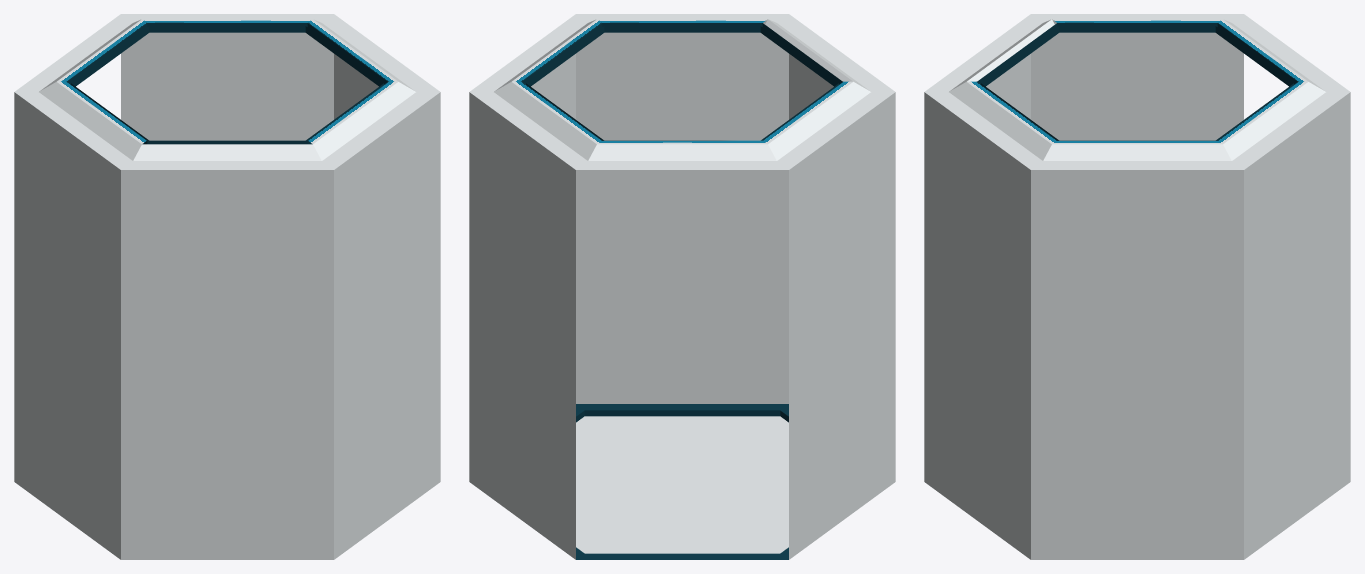
Rendered from Hexagon_Environment.fbx.
3 views of the same model, side by side, from view 1: azimuth 30°, elevation 25°; view 2: azimuth 150°, elevation 25°; view 3: azimuth 270°, elevation 25° (orthographic).
Visible parts, largest first — view 1: Hexagon_Enironment_Inner, Wall0; view 2: Hexagon_Enironment_Inner, Hexagon_Enironment, Wall0; view 3: Hexagon_Enironment_Inner, Wall0.
Boxes of the visible parts, x1,y1,x2,y2 form: Hexagon_Enironment_Inner: (14,14,440,559); Wall0: (334,54,378,119); Hexagon_Enironment_Inner: (469,14,895,559); Hexagon_Enironment: (576,416,788,553); Wall0: (531,54,584,422); Hexagon_Enironment_Inner: (924,14,1350,559); Wall0: (1031,170,1243,559).
Size of the model in its own units: 283 by 344 by 327.
